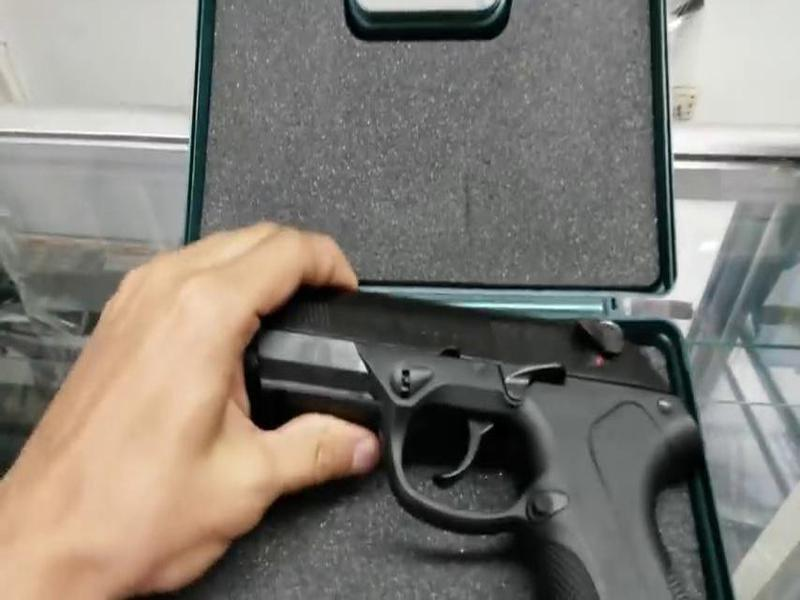Pistola: (259, 261, 692, 600)
